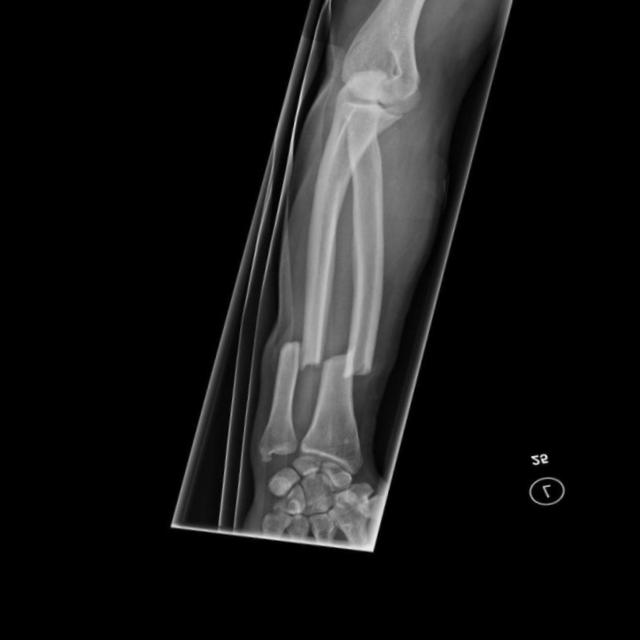Transverse: (275, 330, 327, 384), (322, 343, 382, 387)
